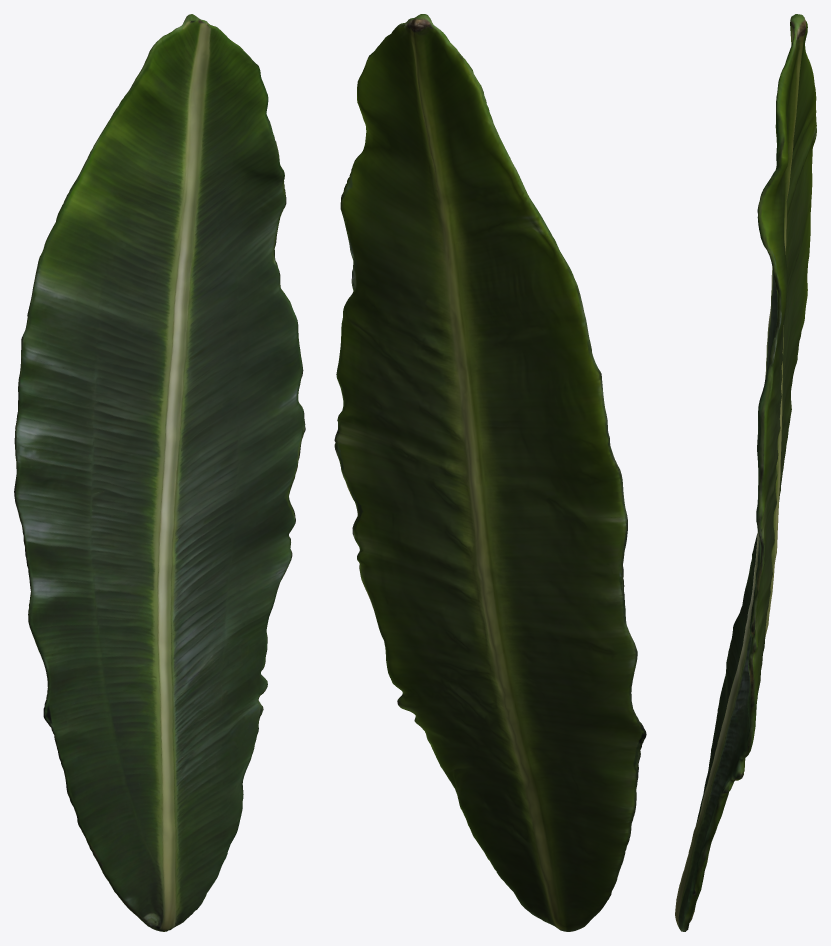
Rendered from AI_BananaLeaf.fbx.
3 views of the same model, side by side, from view 1: azimuth 30°, elevation 25°; view 2: azimuth 150°, elevation 25°; view 3: azimuth 270°, elevation 25° (orthographic). The views are drawn at different scales.
Parts seen in each view (by area): view 1: Mesh1; view 2: Mesh1; view 3: Mesh1.
Boxes of the visible parts, box(x1,y1,x2,y2) form: Mesh1: box(14, 14, 305, 931); Mesh1: box(334, 14, 646, 931); Mesh1: box(675, 14, 816, 931).
Size of the model in its own units: 68.2 by 200 by 26.9.
Materials: 1 (1 with a texture image).
